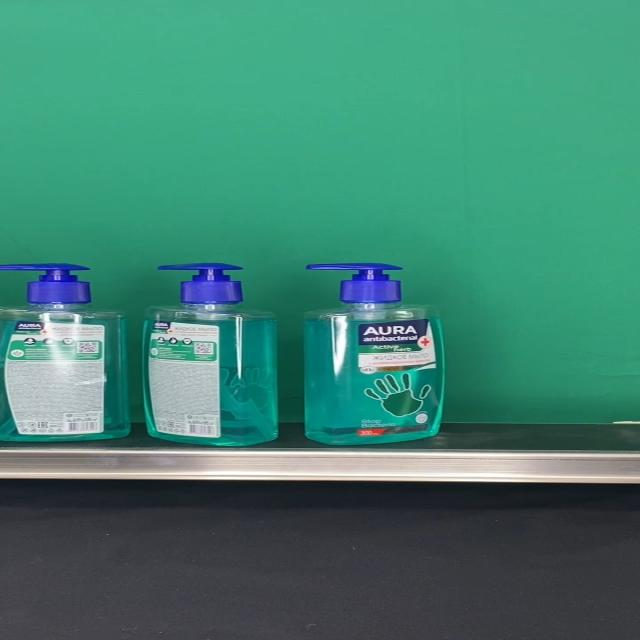Bottle: (304, 263, 445, 446), (140, 263, 278, 446), (0, 262, 129, 441)
Cap: (306, 263, 402, 305), (0, 263, 92, 304), (156, 264, 244, 306)
